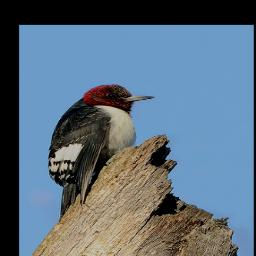Woodpecker: (47, 84, 156, 218)
